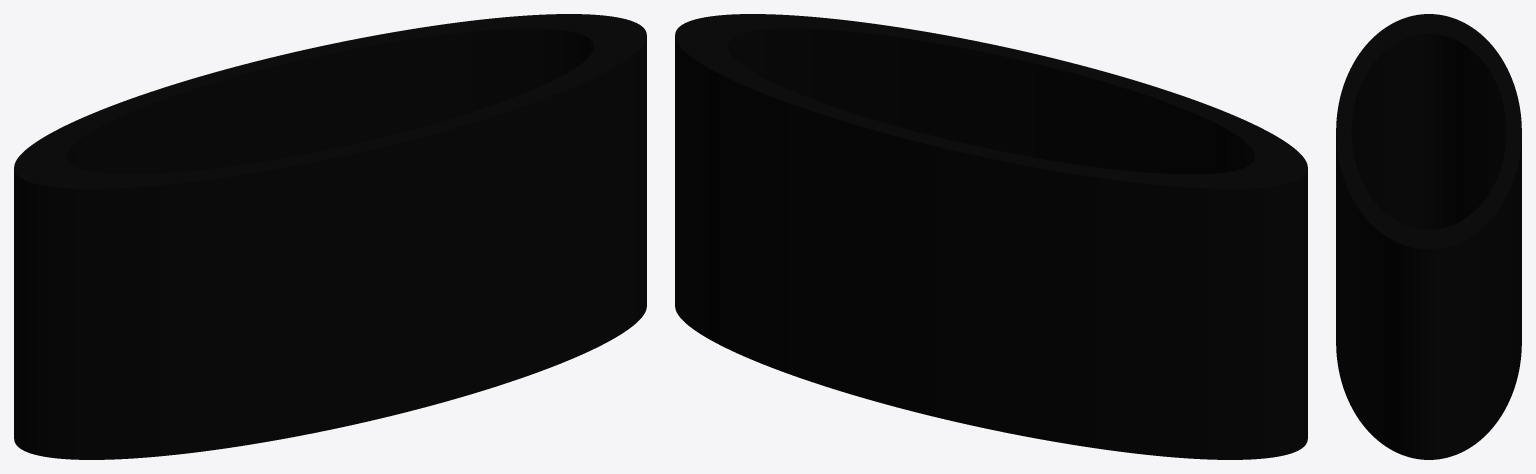
The model's file is cilindro eliptico.fbx.
The picture shows the model from 3 angles, left to right: view 1: azimuth 30°, elevation 25°; view 2: azimuth 150°, elevation 25°; view 3: azimuth 270°, elevation 25°; orthographic projection. The views are drawn at different scales.
Visible parts, largest first — view 1: root; view 2: root; view 3: root.
Boxes of the visible parts, box(x1,y1,x2,y2) form: root: box(14, 14, 646, 459); root: box(675, 14, 1307, 459); root: box(1336, 14, 1521, 459).
Size of the model in its own units: 1.02 by 0.4267 by 0.3413.
Materials: 1 (1 with a texture image).
